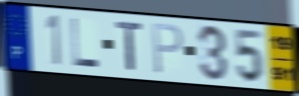1: (45, 14, 63, 68)
3: (195, 24, 229, 84)
5: (232, 27, 267, 85)
L: (69, 16, 102, 70)
P: (151, 21, 186, 76)
T: (114, 20, 145, 73)
